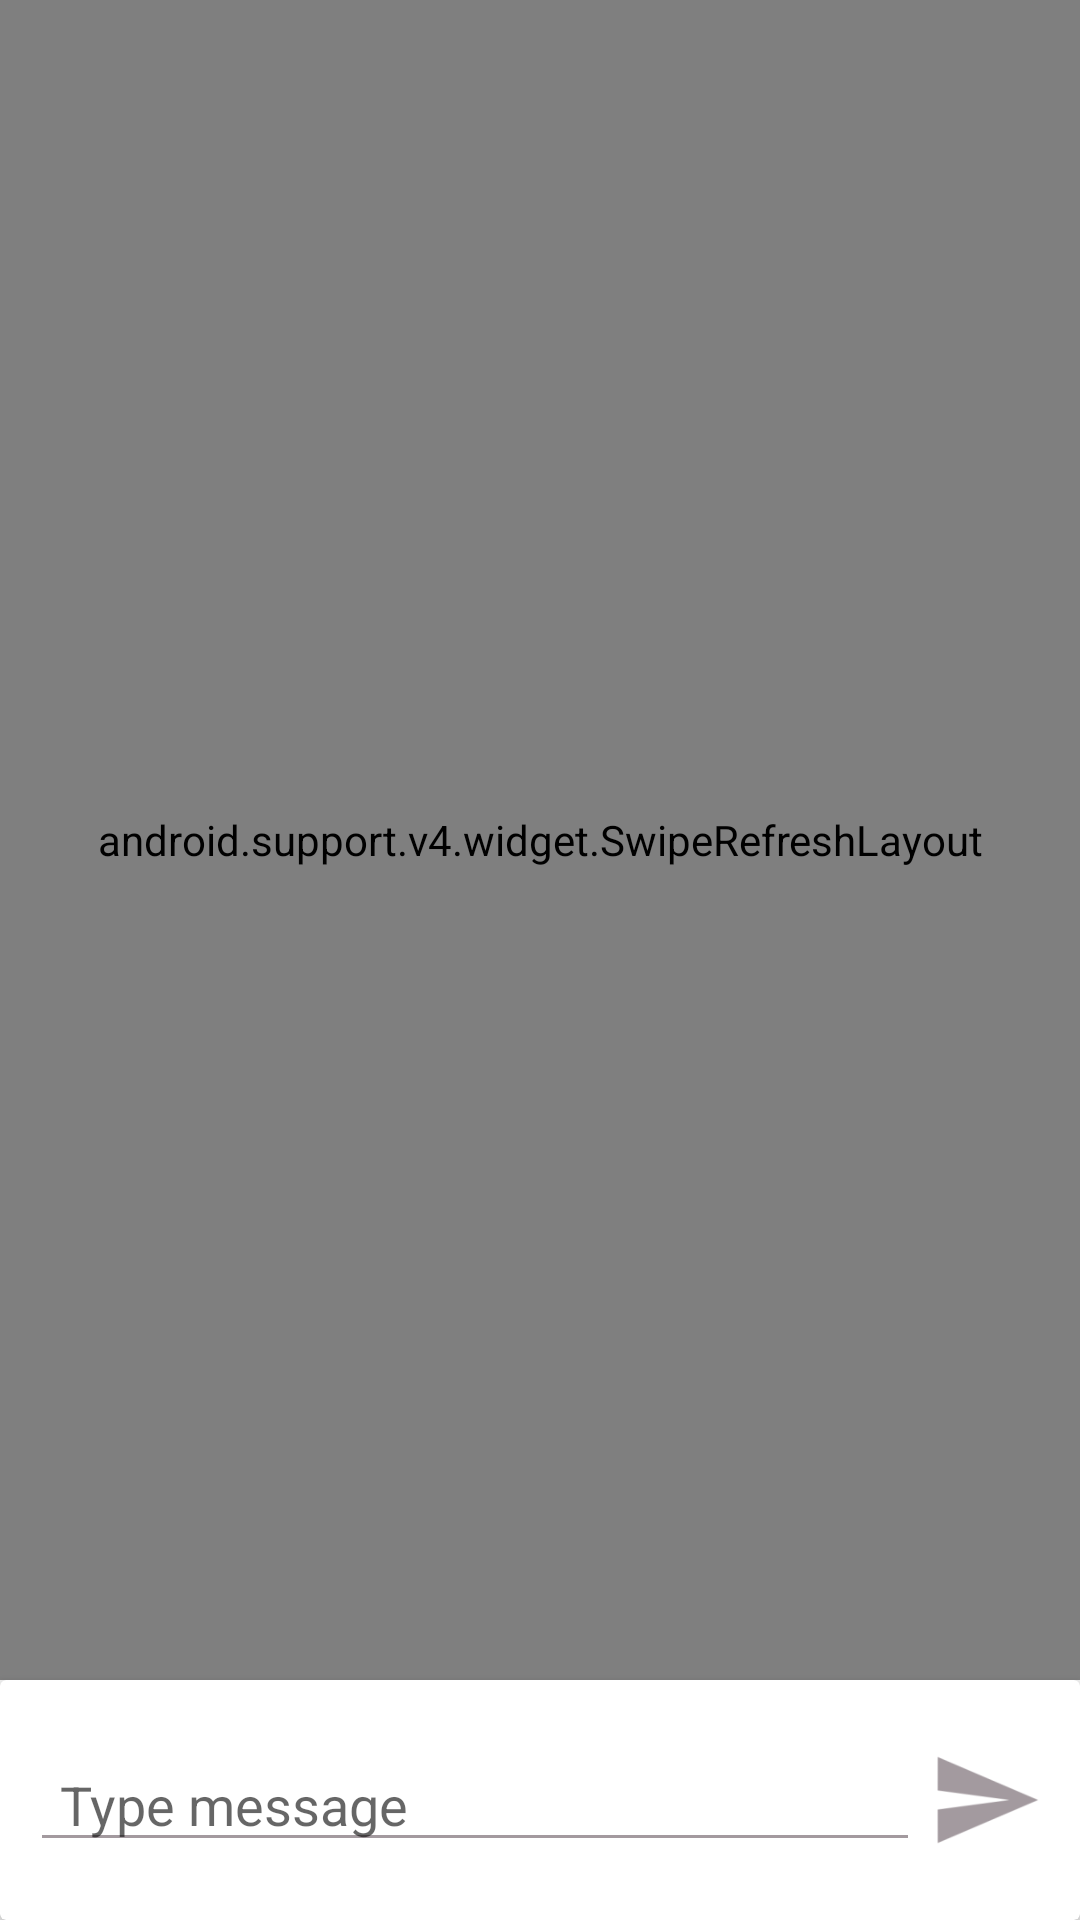

Icon click points for this 1080 x 1920 phone screenshot, format (x,y):
send: (987,1800)
